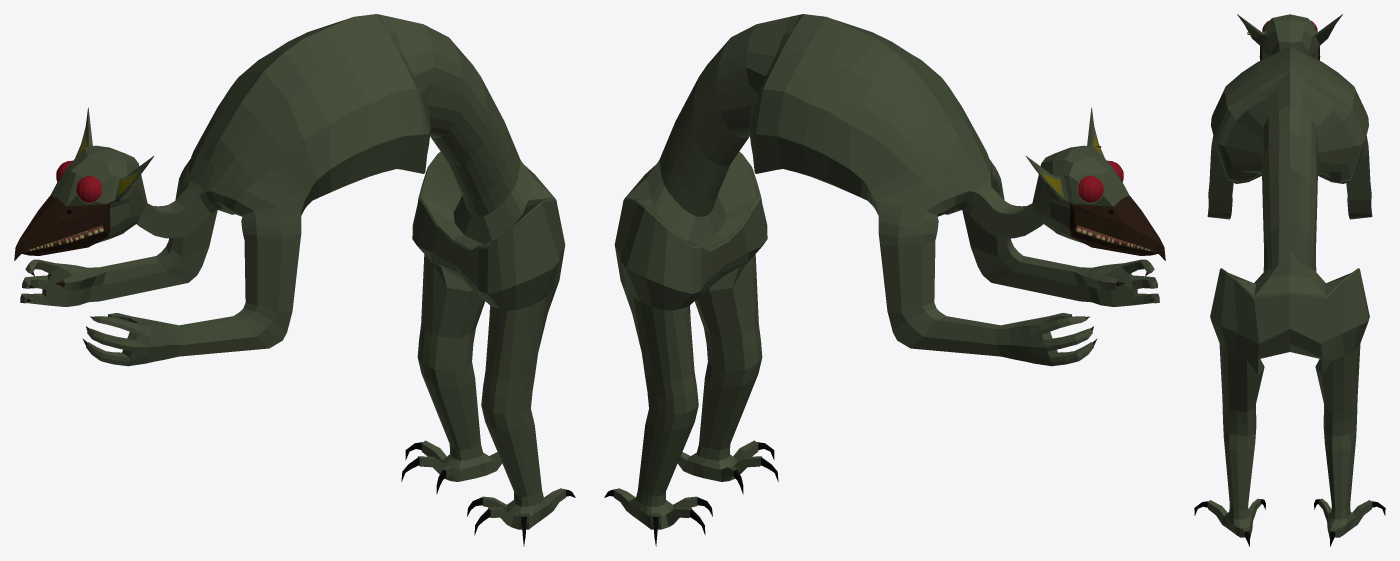
The model's file is FaceHugger.fbx.
3 views of the same model, side by side, from view 1: azimuth 30°, elevation 25°; view 2: azimuth 150°, elevation 25°; view 3: azimuth 270°, elevation 25° (orthographic). The views are drawn at different scales.
Visible parts, largest first — view 1: Cube; view 2: Cube; view 3: Cube.
Boxes of the visible parts, box(x1,y1,x2,y2) form: Cube: box(14, 14, 575, 546); Cube: box(604, 14, 1165, 546); Cube: box(1194, 14, 1385, 546).
Bounding box in the file's own units: 304 × 279 × 117.
